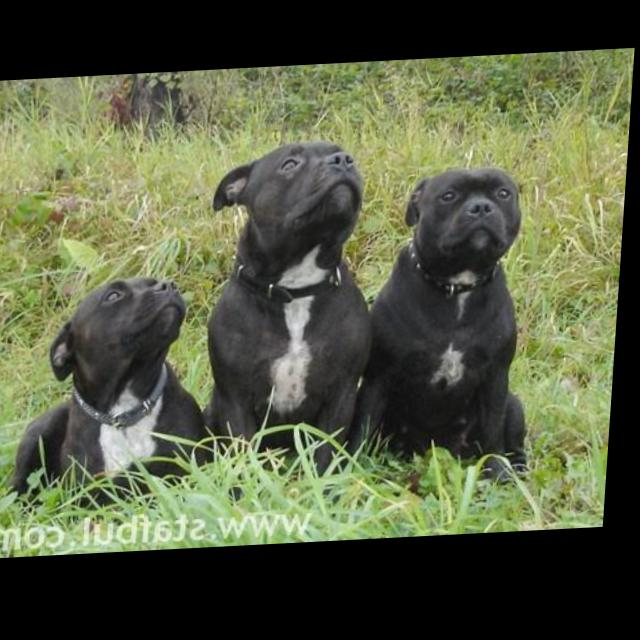staffford: (201, 140, 390, 502), (352, 169, 553, 499), (15, 273, 231, 523)
